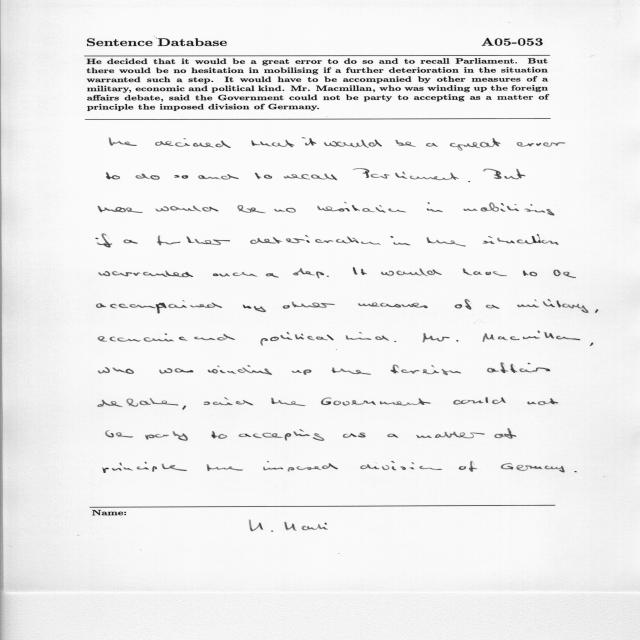word: (97, 300, 222, 314), (250, 235, 381, 245), (464, 203, 555, 216), (353, 169, 459, 180), (483, 331, 581, 342), (260, 332, 334, 346), (239, 429, 324, 441), (518, 299, 589, 313), (317, 202, 406, 213), (103, 462, 187, 473), (321, 398, 431, 406), (483, 234, 559, 245), (263, 461, 338, 472), (98, 333, 188, 342), (390, 365, 461, 376), (155, 138, 231, 148), (360, 462, 443, 471), (157, 236, 230, 246), (98, 398, 178, 407), (99, 271, 193, 278), (450, 138, 500, 151), (208, 365, 272, 375), (501, 463, 565, 473), (487, 363, 550, 373), (324, 140, 382, 148), (145, 431, 188, 441), (381, 269, 442, 276), (358, 303, 428, 309), (416, 432, 485, 438), (426, 237, 466, 247), (204, 398, 254, 406), (346, 332, 389, 341), (156, 206, 219, 212), (284, 174, 337, 181), (453, 398, 506, 405), (283, 302, 335, 309), (463, 268, 507, 276), (423, 333, 459, 342), (98, 206, 143, 213), (332, 367, 371, 375), (293, 268, 324, 278), (251, 140, 294, 147), (194, 334, 235, 341), (271, 398, 306, 406), (98, 367, 134, 374), (207, 464, 243, 471), (198, 174, 239, 180), (517, 142, 566, 147), (495, 428, 517, 439), (237, 205, 266, 213), (109, 138, 137, 146), (96, 234, 112, 248), (213, 272, 257, 277), (505, 169, 526, 179), (528, 398, 558, 405), (483, 168, 502, 179), (160, 368, 194, 374), (459, 461, 477, 472), (106, 431, 133, 438), (455, 299, 472, 310), (553, 270, 576, 278), (391, 236, 411, 245), (243, 305, 266, 312), (427, 202, 443, 212), (135, 174, 160, 180), (395, 140, 416, 147), (211, 431, 227, 439), (302, 137, 316, 146), (292, 369, 312, 375), (353, 268, 367, 276), (274, 208, 296, 213), (343, 433, 365, 438), (255, 173, 272, 179), (106, 173, 120, 180), (523, 271, 537, 277), (124, 239, 138, 244), (266, 273, 279, 278), (174, 175, 188, 179), (486, 305, 499, 309), (426, 143, 438, 147), (388, 434, 399, 438), (182, 405, 186, 410), (595, 309, 598, 313), (590, 343, 593, 346), (574, 471, 577, 472), (327, 276, 329, 277), (394, 341, 396, 342)
